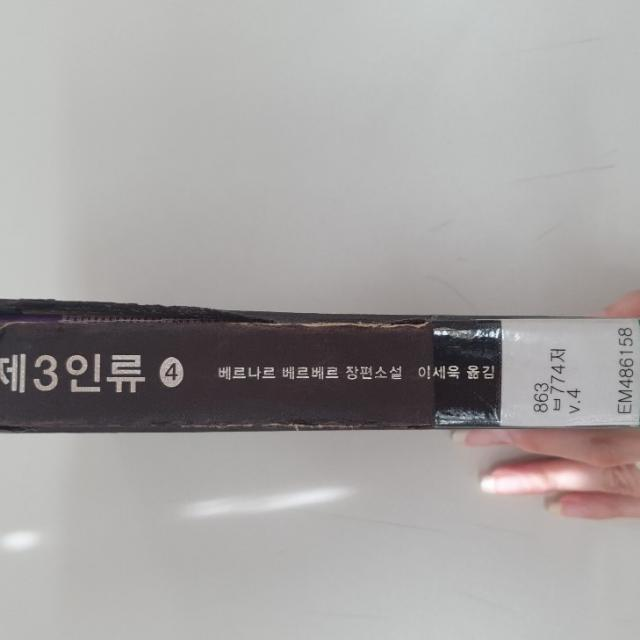Ripped: (0, 293, 431, 348), (0, 402, 436, 442)
